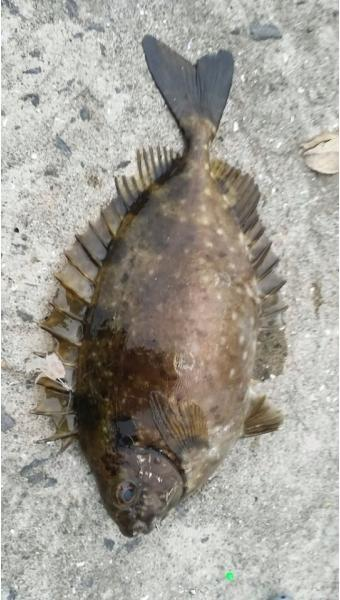fish: (31, 38, 286, 535)
